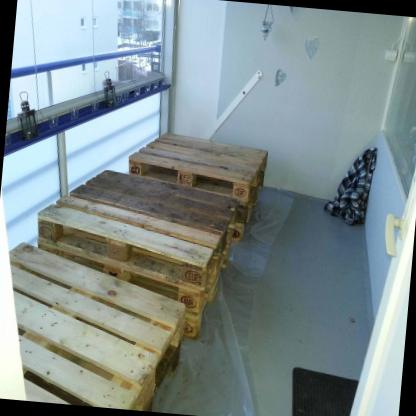BoxFace: (9, 241, 187, 411), (33, 168, 239, 291), (128, 130, 271, 204)
